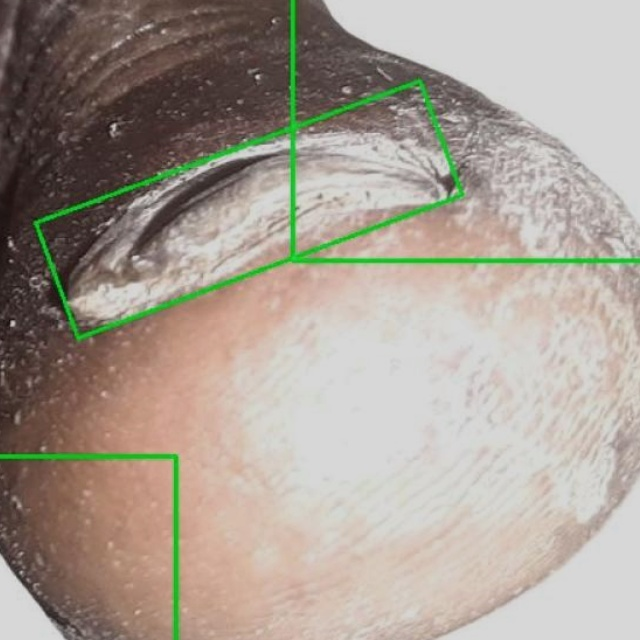Contact Dermatitis: (36, 81, 462, 338), (292, 0, 639, 260)
